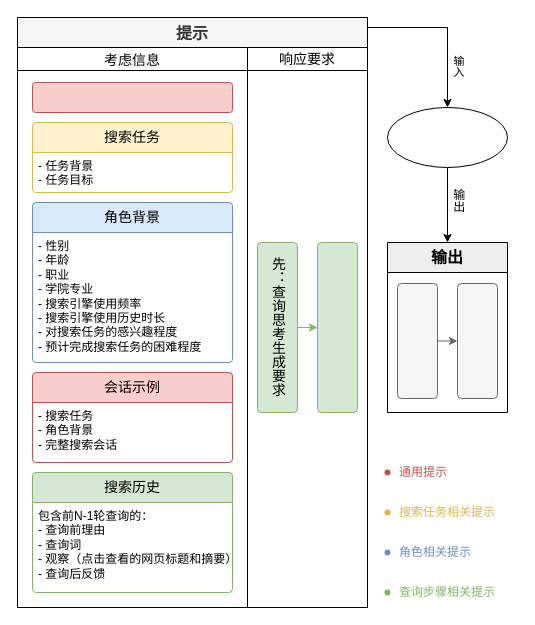
Some shapes in this 535 by 625 pixel diagram are drawn without their labels. The centre of each missing label's shape, as x and y in pixels:
先：查询思考: point 417,340
后：查询词: point 477,340
后：查询词生成要求: point 337,327
大语言模型: point 447,137
对话意图: point 132,97
